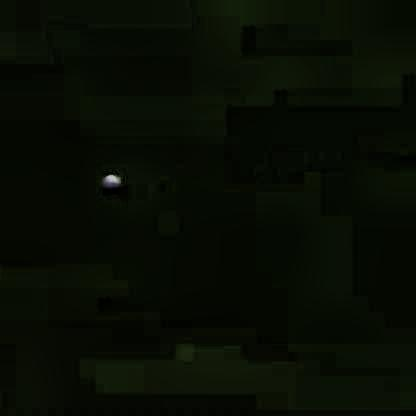golfball: (98, 170, 120, 192)
